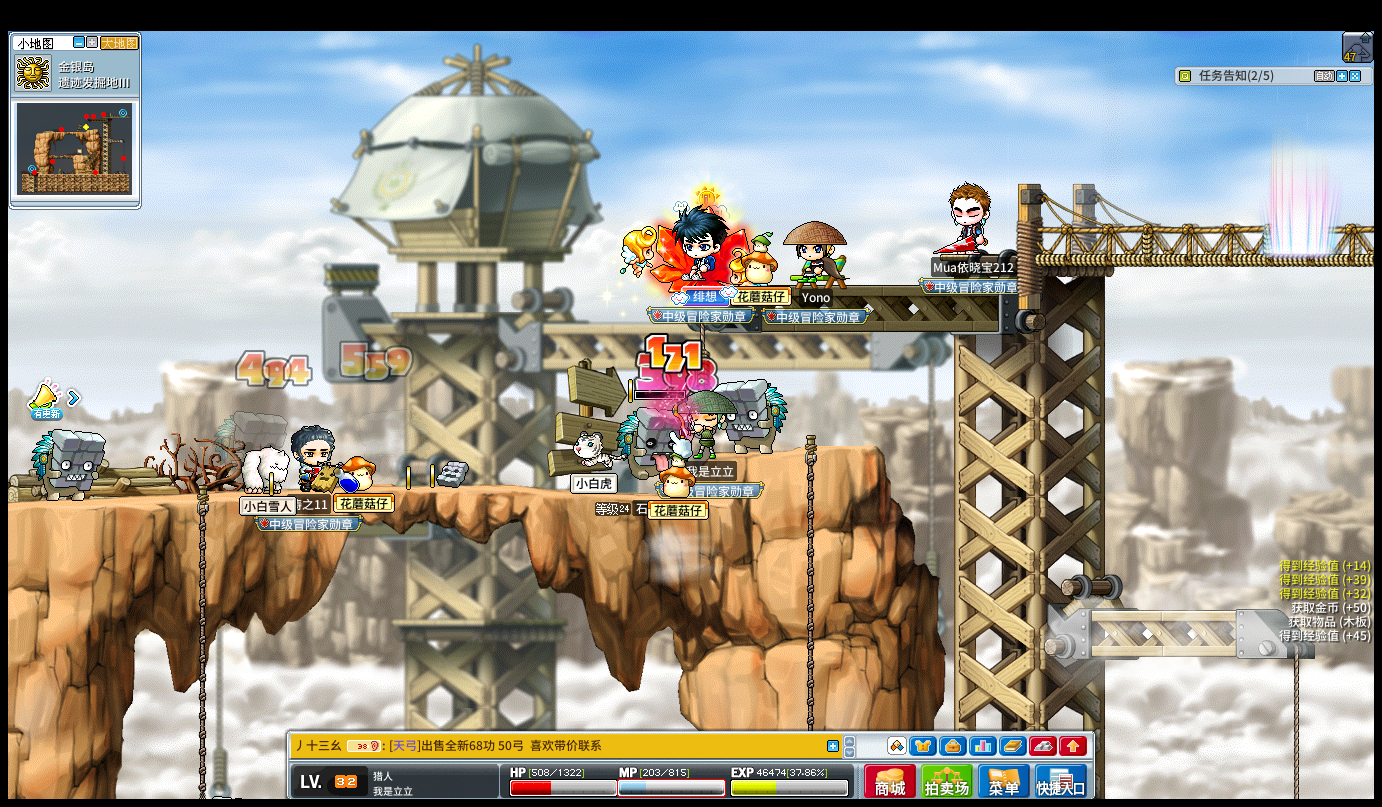floor: (19, 483, 813, 505), (33, 483, 763, 499), (723, 444, 877, 460), (713, 442, 875, 457)
monster: (31, 428, 104, 503), (723, 378, 788, 454), (616, 406, 666, 490)
rope: (193, 481, 207, 807), (802, 432, 817, 730), (1288, 653, 1303, 792)
